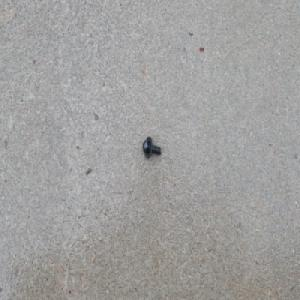BoltWasher: (142, 135, 161, 159)
